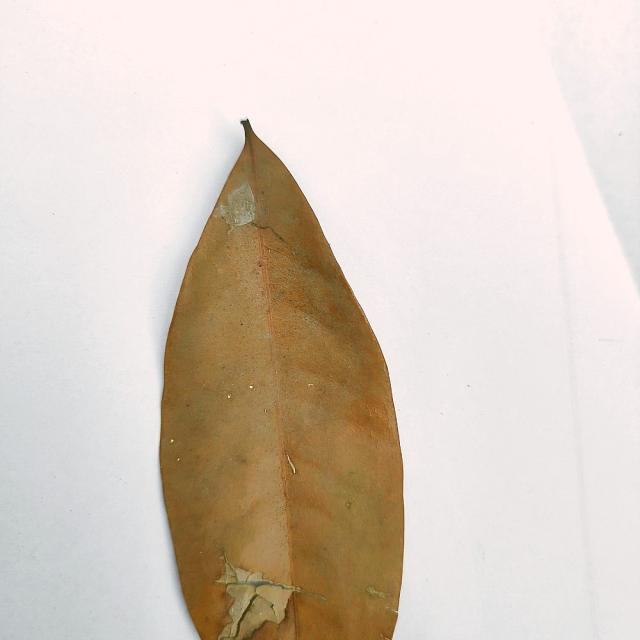Dry_Leaf-Lychee: (157, 122, 406, 639)
